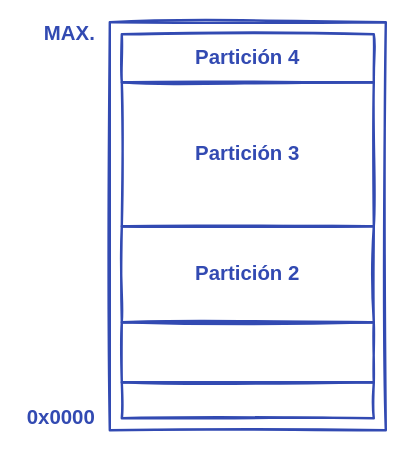
Image size: 406x450. Some labels were removed from this diagram. Here are the shapes that lost their labels. From the top down, the box of each, then its label:
(120, 320, 374, 383): Partición 1
(120, 380, 374, 419): Sistema Operativo
